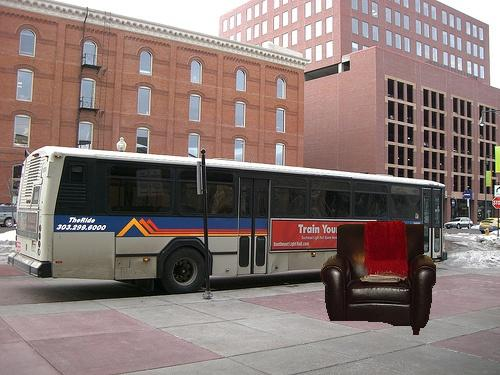tampered: (321, 221, 436, 335)
